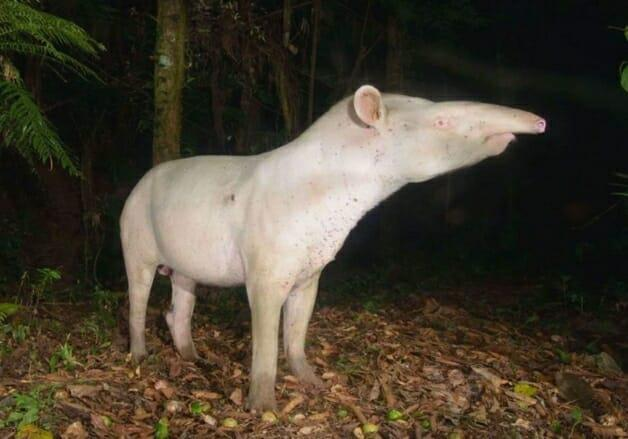Anta: (112, 81, 554, 415)
